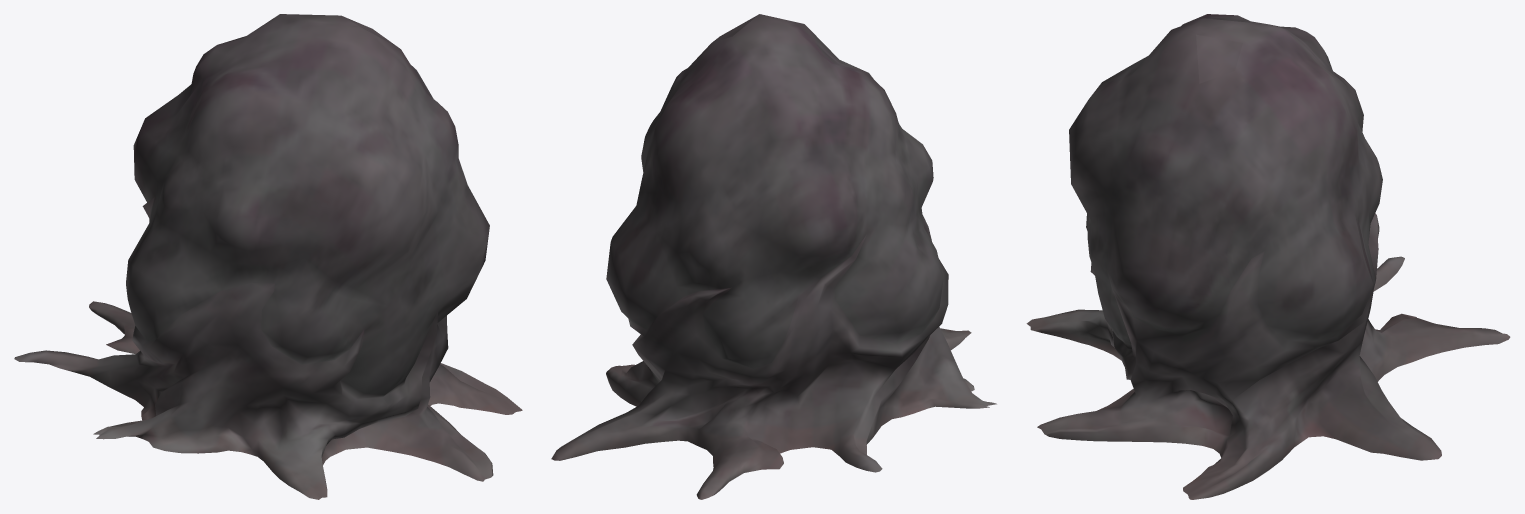
File: Cocoon (38).fbx
3 renders of one model, left to right at view 1: azimuth 30°, elevation 25°; view 2: azimuth 150°, elevation 25°; view 3: azimuth 270°, elevation 25°, orthographic. The views are drawn at different scales.
Visible parts, largest first — view 1: Egg; view 2: Egg; view 3: Egg.
Boxes of the visible parts, x1,y1,x2,y2 form: Egg: (14, 14, 522, 499); Egg: (551, 14, 996, 499); Egg: (1026, 14, 1510, 499).
Size of the model in its own units: 1.59 by 1.51 by 1.69.
1 material, 1 textured.
